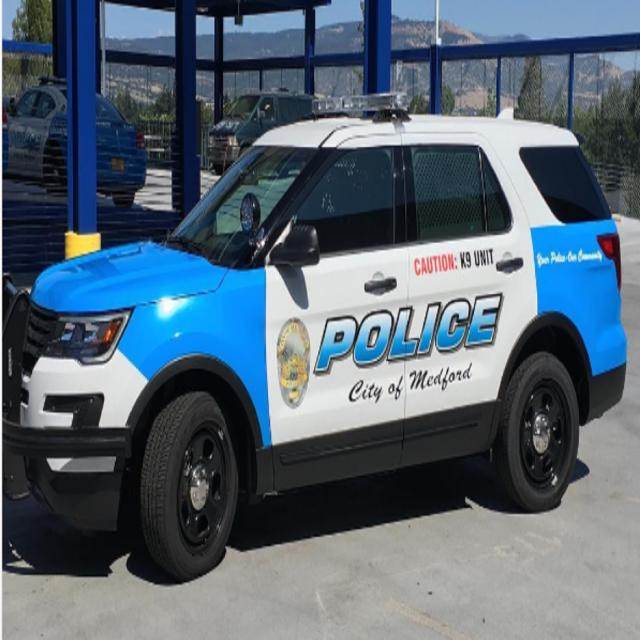cop: (0, 86, 631, 585)
